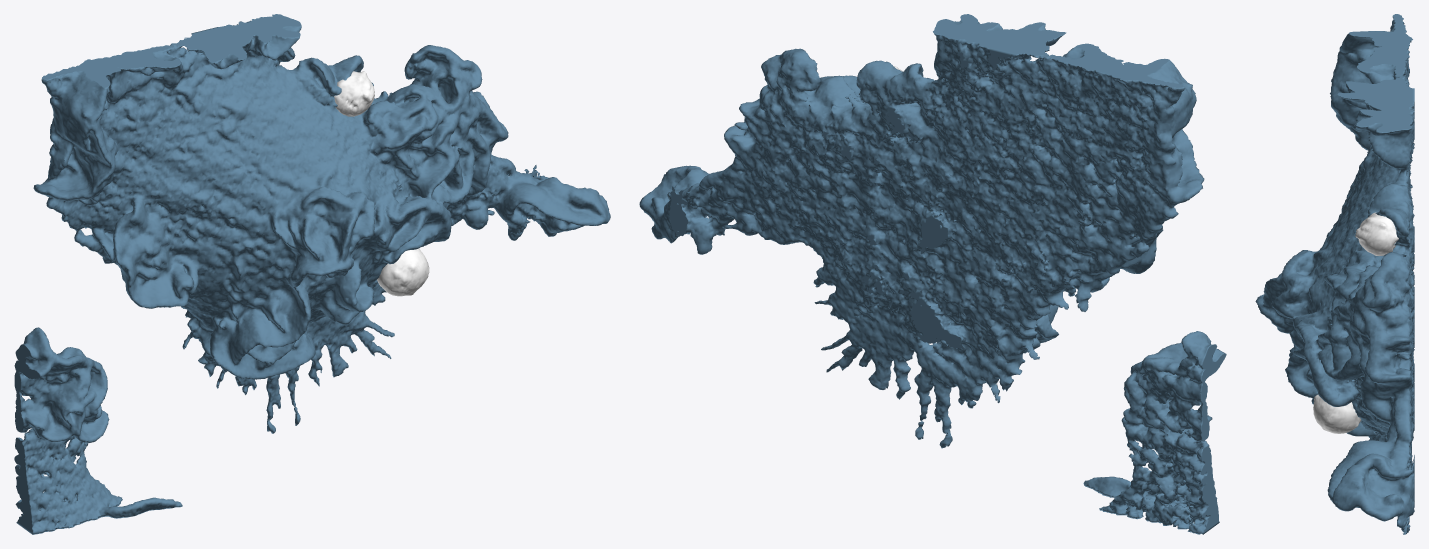
3 renders of one model, left to right at view 1: azimuth 30°, elevation 25°; view 2: azimuth 150°, elevation 25°; view 3: azimuth 270°, elevation 25°, orthographic. The views are drawn at different scales.
Visible parts, largest first — view 1: surface (×2); view 2: surface; view 3: surface (×2).
Boxes of the visible parts, x1=… form: surface (×2): x1=14, y1=14, x2=610, y2=534; surface: x1=639, y1=14, x2=1226, y2=534; surface (×2): x1=1255, y1=14, x2=1414, y2=534.
Size of the model in its own units: 594 by 436 by 148.
